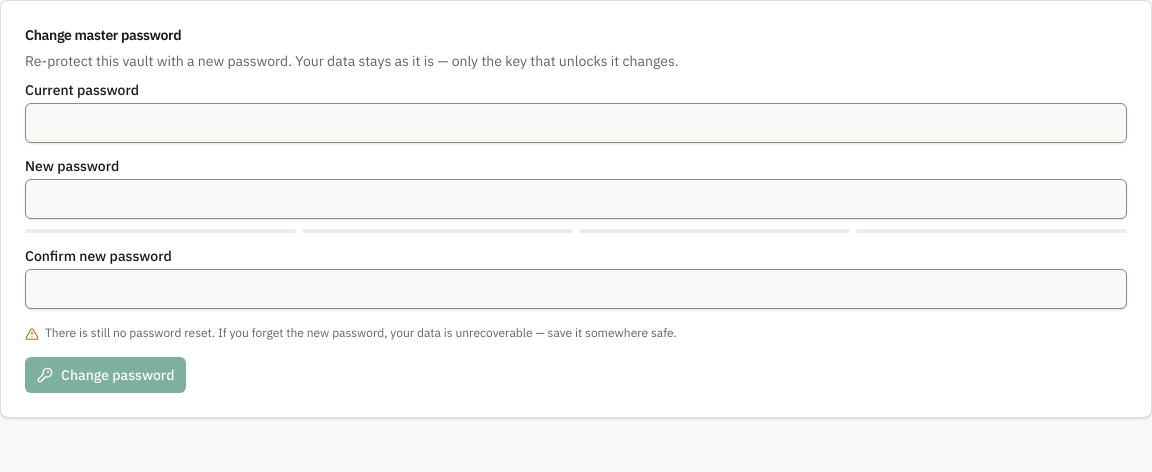
Scenario: ChangePasswordCard › changes the password and confirms
Type "old password 1" into the password field labelled "Current password" at x=576, y=123, box [25,103,1127,143]
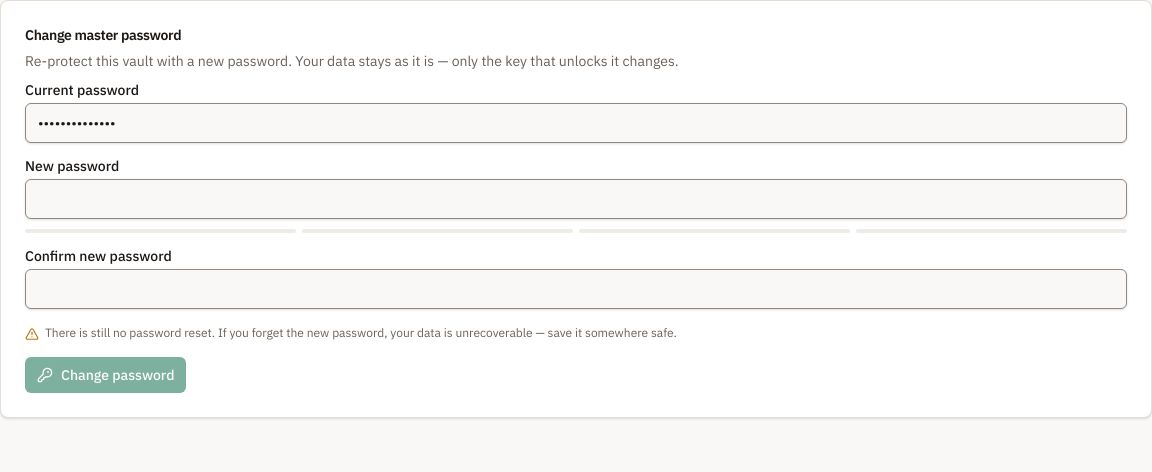
Type "new password 12" into the password field labelled "New password" at x=576, y=199, box [25,179,1127,219]
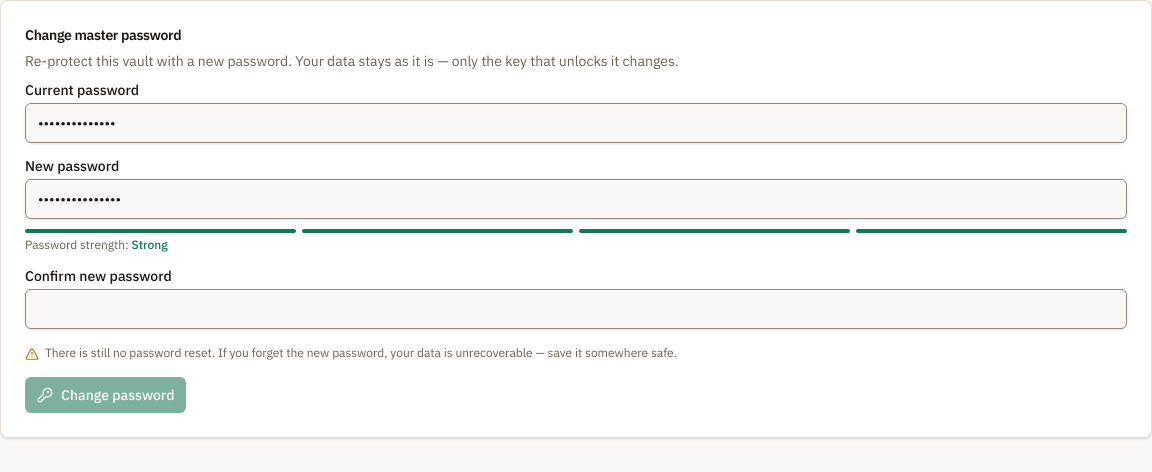
Type "new password 12" into the password field labelled "Confirm new password" at x=576, y=309, box [25,289,1127,329]
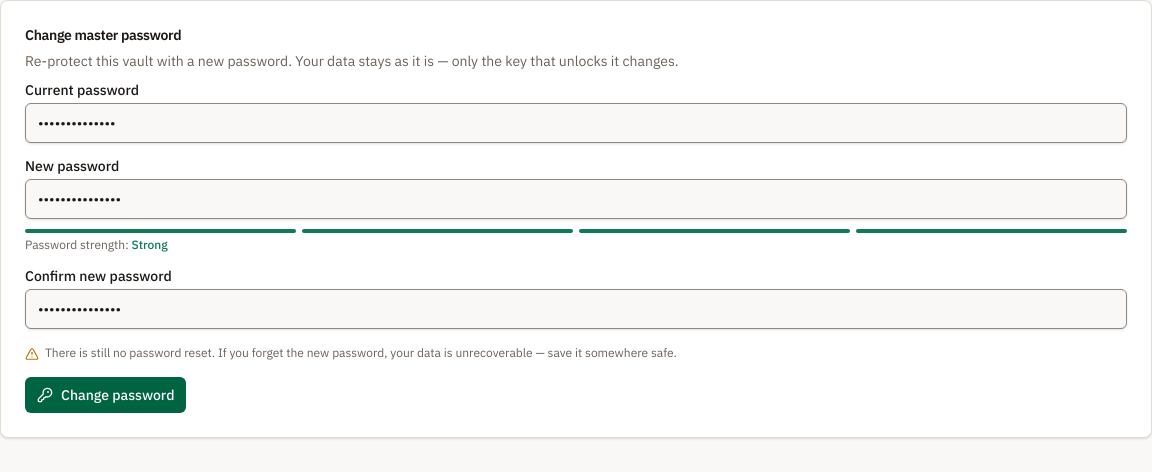
Click the button "Change password" at x=106, y=395, box [25,377,186,413]
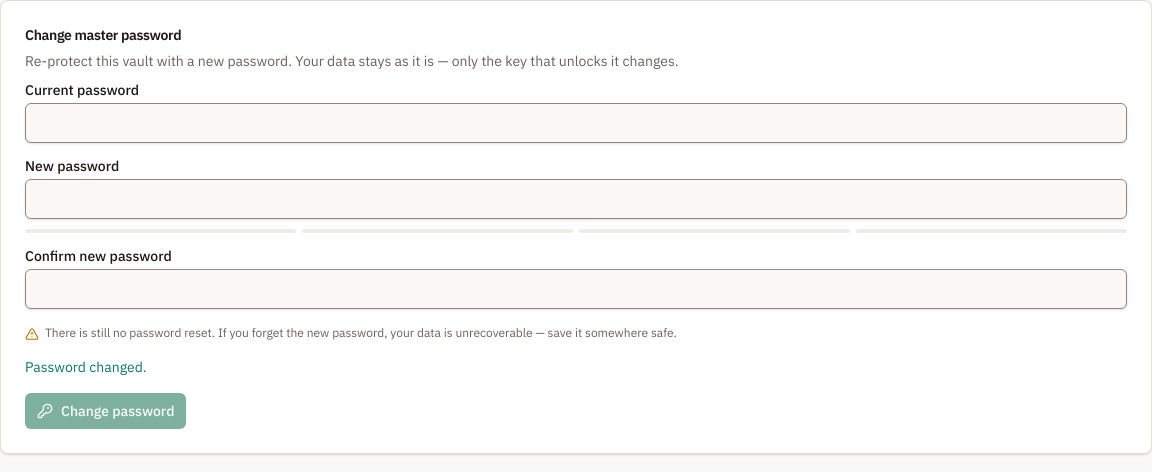
Check: the text "Password changed." is shown, box [25,358,147,376]
Check: the password field labelled "Current password" is empty, box [25,103,1127,143]
